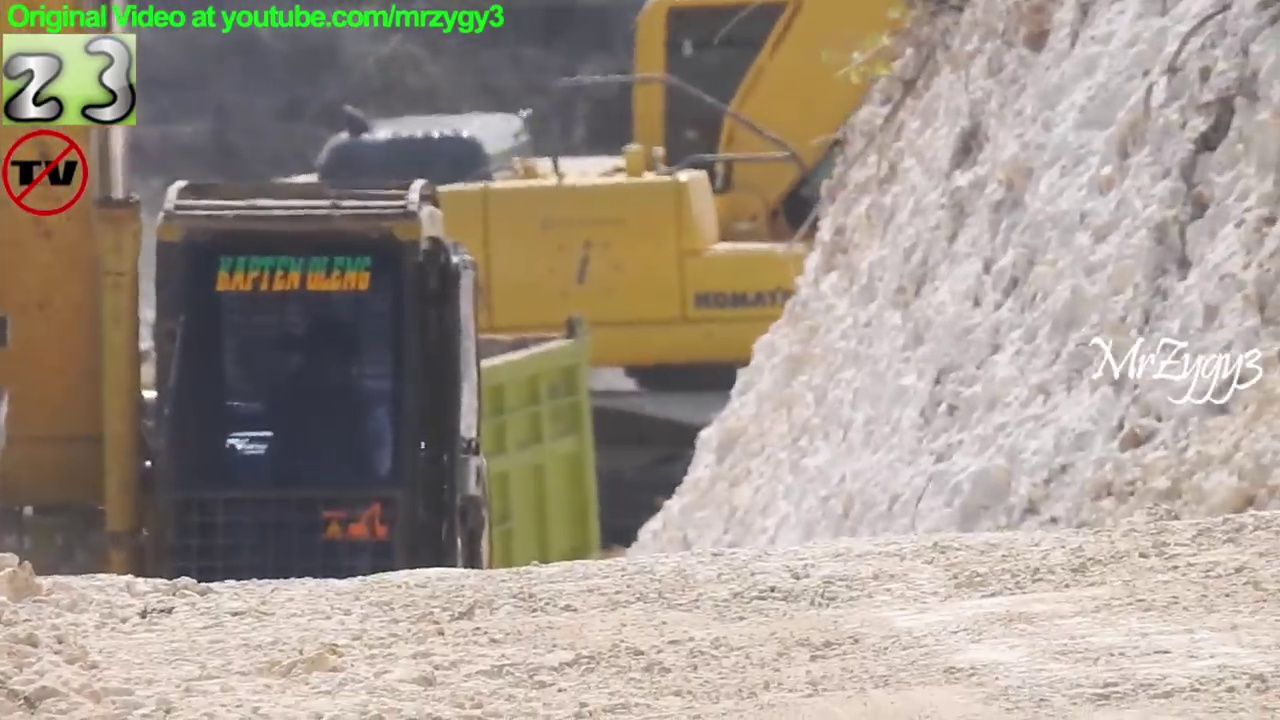excavator: (218, 1, 996, 643), (1, 1, 513, 720)
truck: (1, 304, 617, 681)
